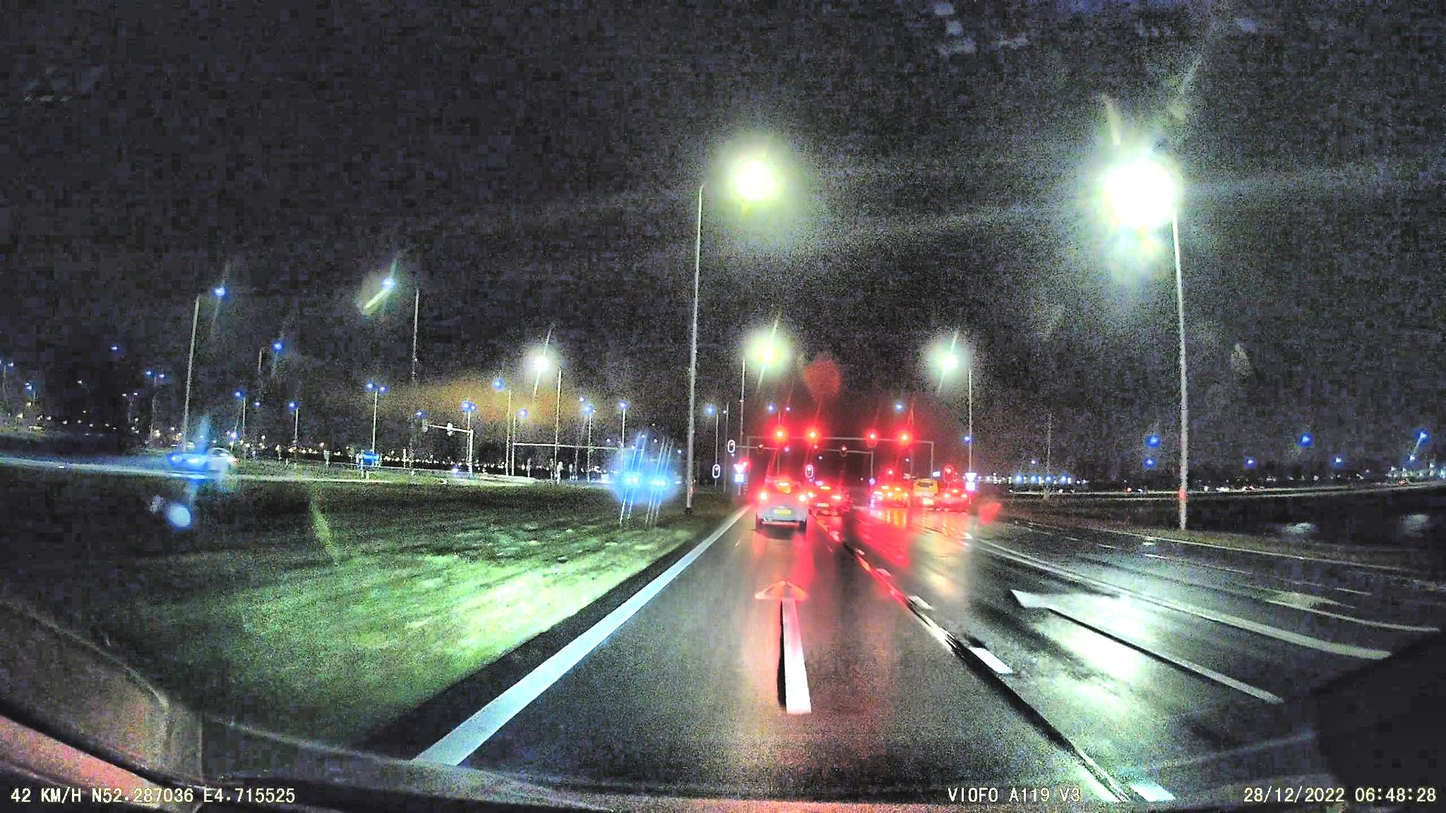Roads: (411, 501, 1401, 802)
